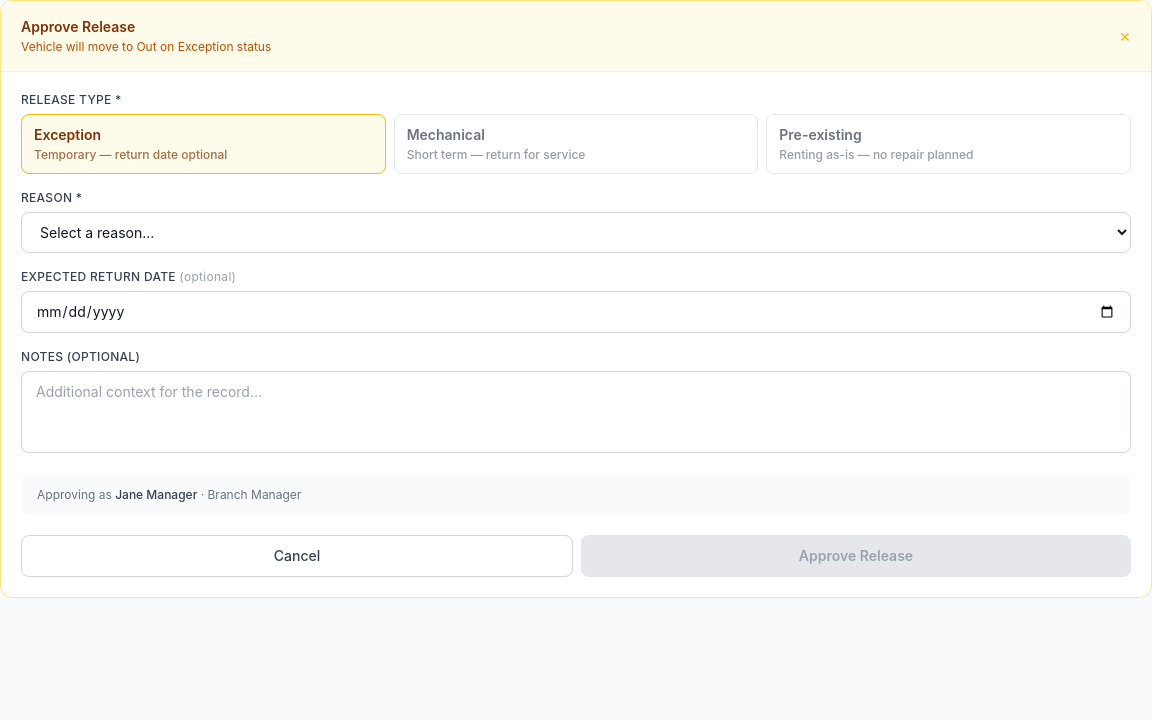
it: ReleaseForm — exception path › advances to the confirmation screen on submit
The width and height of the screenshot is (1152, 720).
Select "Damage documented — vehicle serviceable for rental" in the dropdown. click: (576, 232)
box: [21,212,1131,253]
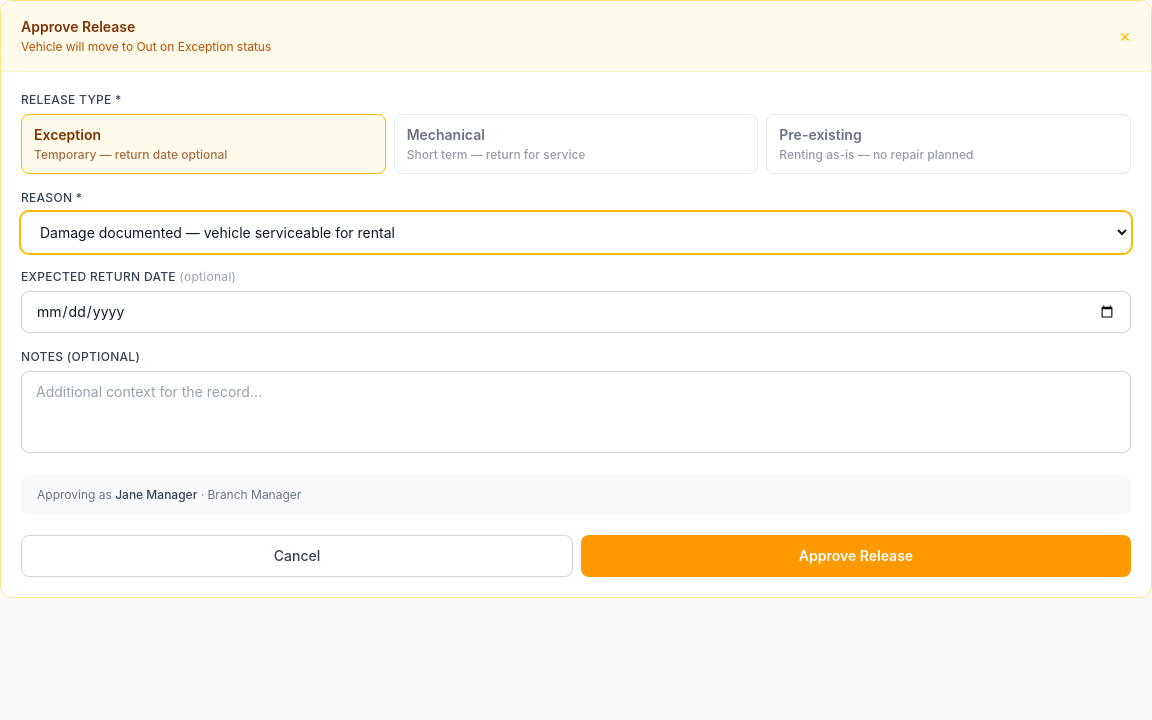
Click the button "Approve Release". click: click(856, 556)
box: [581,535,1131,577]
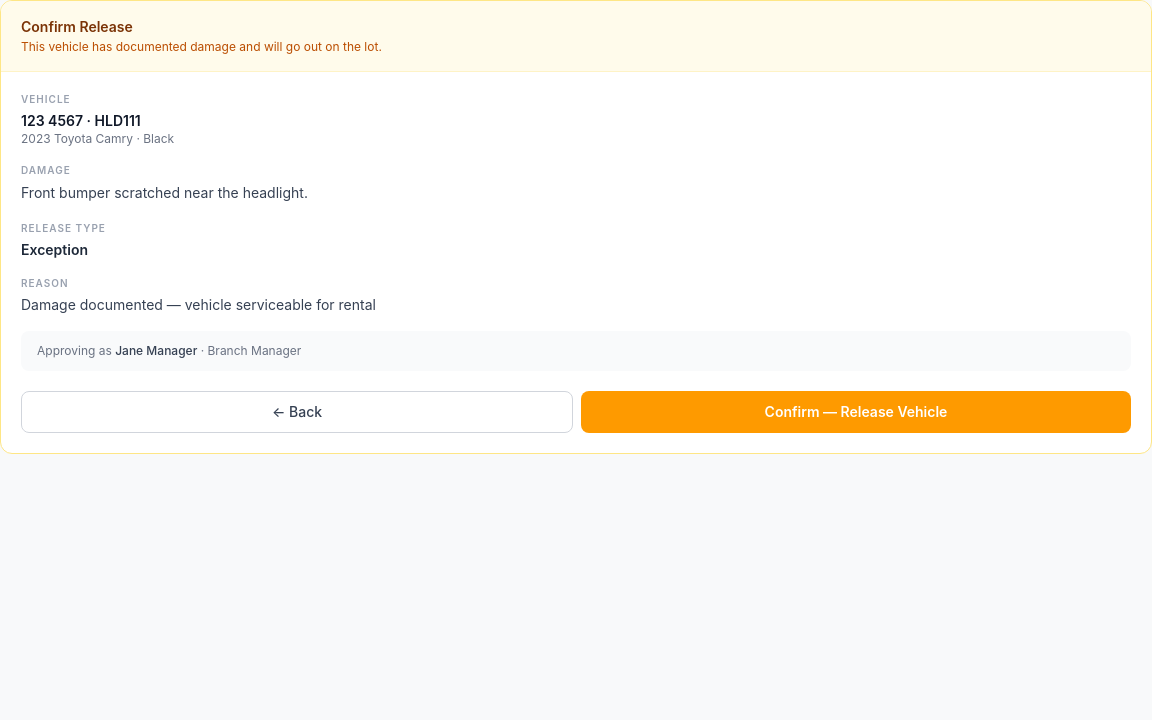
Expected: the heading "Confirm Release" is shown, [21,18,133,35]
Expected: the text "123 4567 · HLD111" is shown, [21,112,141,129]
Expected: the text "Front bumper scratched near the headlight." is shown, [21,184,308,201]
